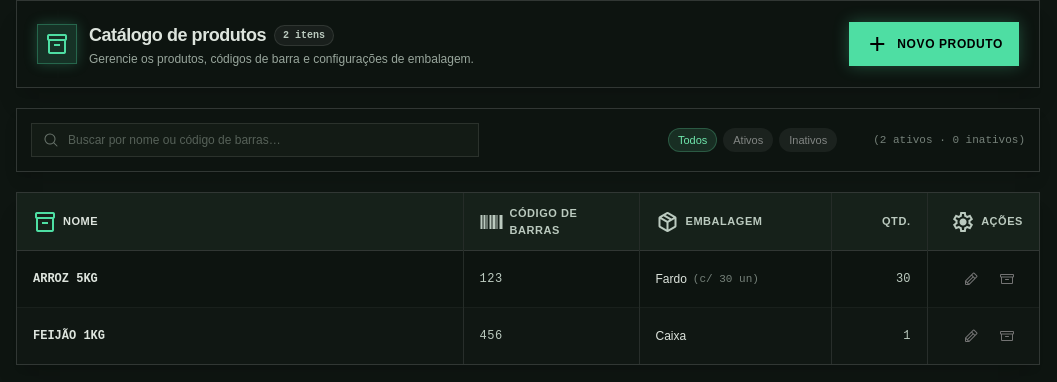
it: limpar a busca restaura a lista completa
Check: the button "Arroz 5kg" is shown, box [33,271,98,287]
Type "feijao" into the search field named "Buscar produto" at (255, 140), box [31,123,479,157]
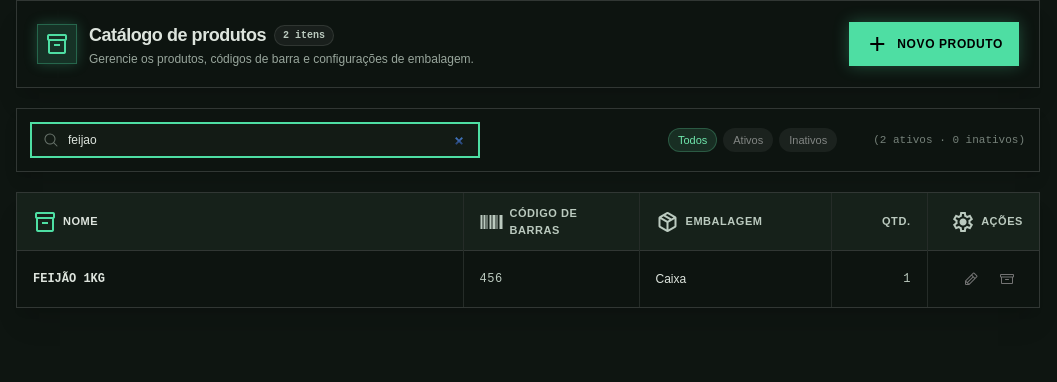
Check: the button "Arroz 5kg" is gone
Clear the search field named "Buscar produto" at (255, 140), box [31,123,479,157]
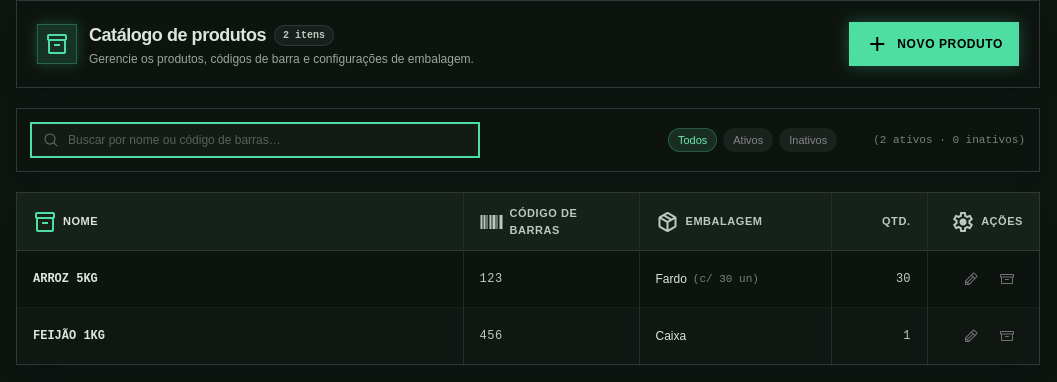
Check: the button "Feijão 1kg" is shown, box [33,328,105,344]
Check: the button "Arroz 5kg" is shown, box [33,271,98,287]
